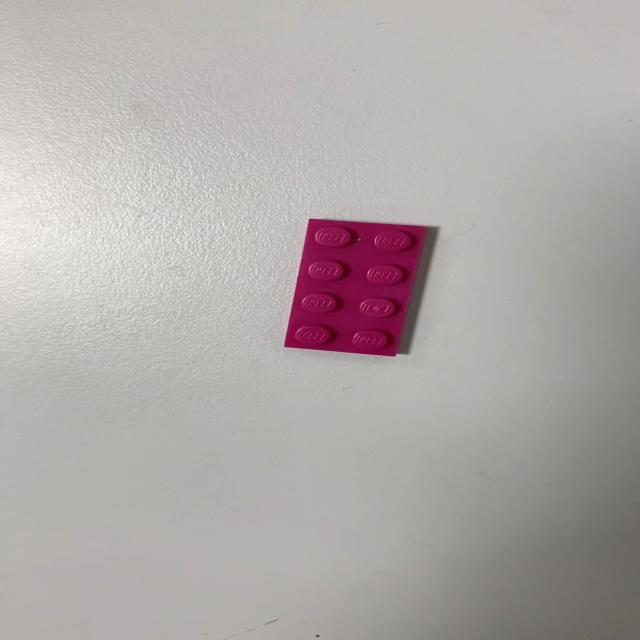C4x2x0: (282, 217, 429, 357)
